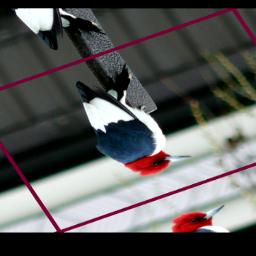Woodpecker: (53, 60, 198, 190)
